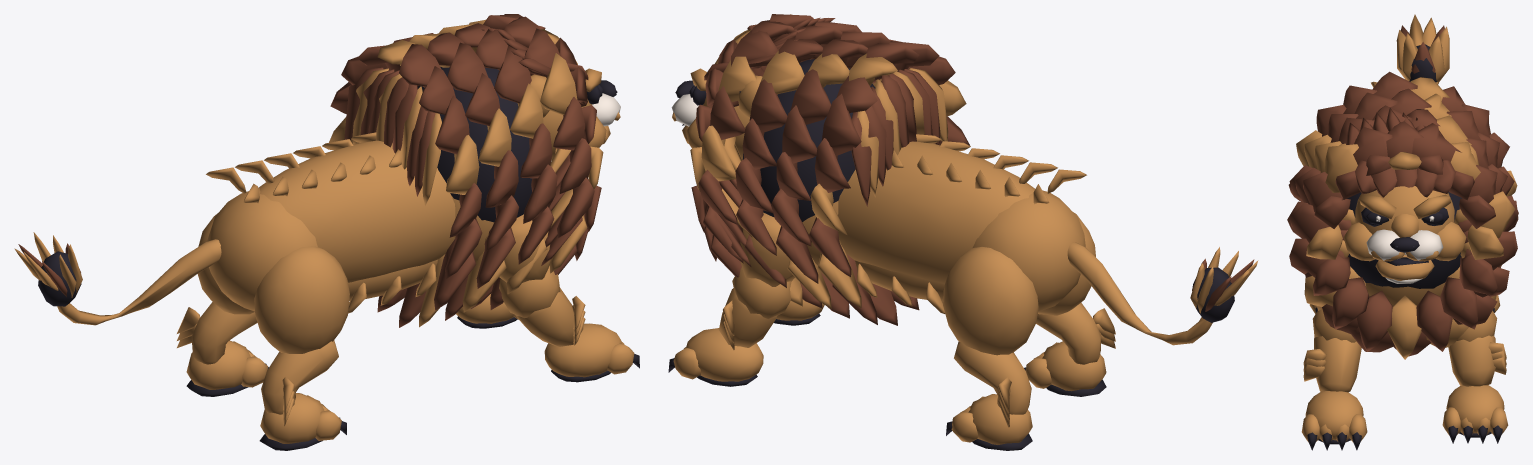
The picture shows the model from 3 angles, left to right: view 1: azimuth 30°, elevation 25°; view 2: azimuth 150°, elevation 25°; view 3: azimuth 270°, elevation 25°; orthographic projection. The views are drawn at different scales.
Parts seen in each view (by area): view 1: head__surface, body__surface, legBR__surface, hip__surface, tail__surface, pawFR__surface, foreArmR__surface, pawBR__surface, pawBL__surface, shinR__surface, shinL__surface, legFR__surface (+2 smaller); view 2: head__surface, body__surface, legBL__surface, hip__surface, tail__surface, pawFL__surface, pawBL__surface, pawBR__surface, foreArmL__surface, shinL__surface, shinR__surface, legFL__surface (+2 smaller); view 3: head__surface, pawFR__surface, pawFL__surface, tail__surface, foreArmR__surface, foreArmL__surface, jaw__surface, body__surface.
Part boxes in pixels (x1,y1,x2,y2): head__surface: (329,14,620,327); body__surface: (206,132,493,313); legBR__surface: (254,246,349,353); hip__surface: (207,188,317,311); tail__surface: (14,232,221,325); pawFR__surface: (544,296,639,382); foreArmR__surface: (499,265,583,346); pawBR__surface: (259,377,346,450); pawBL__surface: (177,307,268,396); shinR__surface: (261,340,338,414); shinL__surface: (191,302,257,364); legFR__surface: (485,214,550,282); head__surface: (671,14,969,325); body__surface: (802,134,1086,313); legBL__surface: (943,247,1038,355); hip__surface: (972,189,1085,311); tail__surface: (1067,242,1258,345); pawFL__surface: (668,300,763,386); pawBL__surface: (946,377,1032,450); pawBR__surface: (1024,308,1115,396); foreArmL__surface: (719,267,791,347); shinL__surface: (954,341,1031,414); shinR__surface: (1036,302,1101,364); legFL__surface: (740,212,794,286); head__surface: (1287,71,1518,359); pawFR__surface: (1301,349,1367,450); pawFL__surface: (1442,342,1508,443); tail__surface: (1396,14,1449,82); foreArmR__surface: (1312,309,1361,392); foreArmL__surface: (1448,310,1497,386); jaw__surface: (1375,254,1434,283); body__surface: (1365,81,1445,305).
Bounding box in the file's own units: 3.02 × 1.67 × 1.15.
